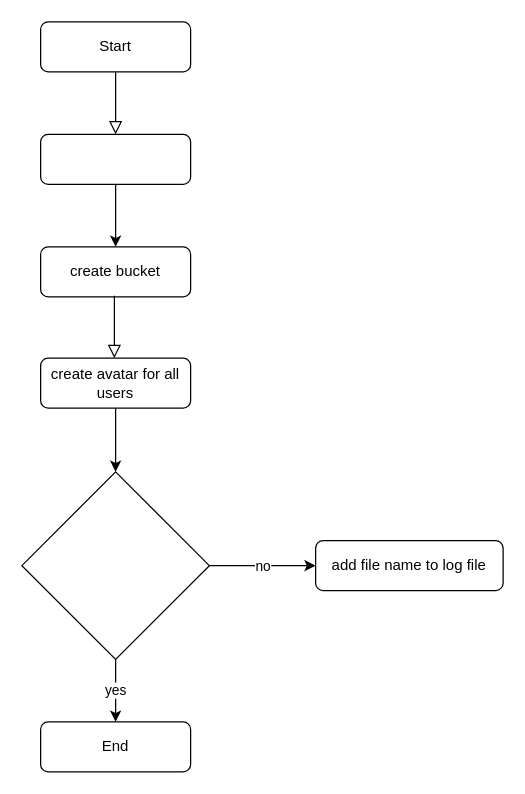
This 525x794 diagram has some shape labels left out. Here are the shapes that lost their labels. From the top down, the centre of each, then its label:
At point 115,158: "connect to storage".
At point 115,565: "Upload files to storage".
